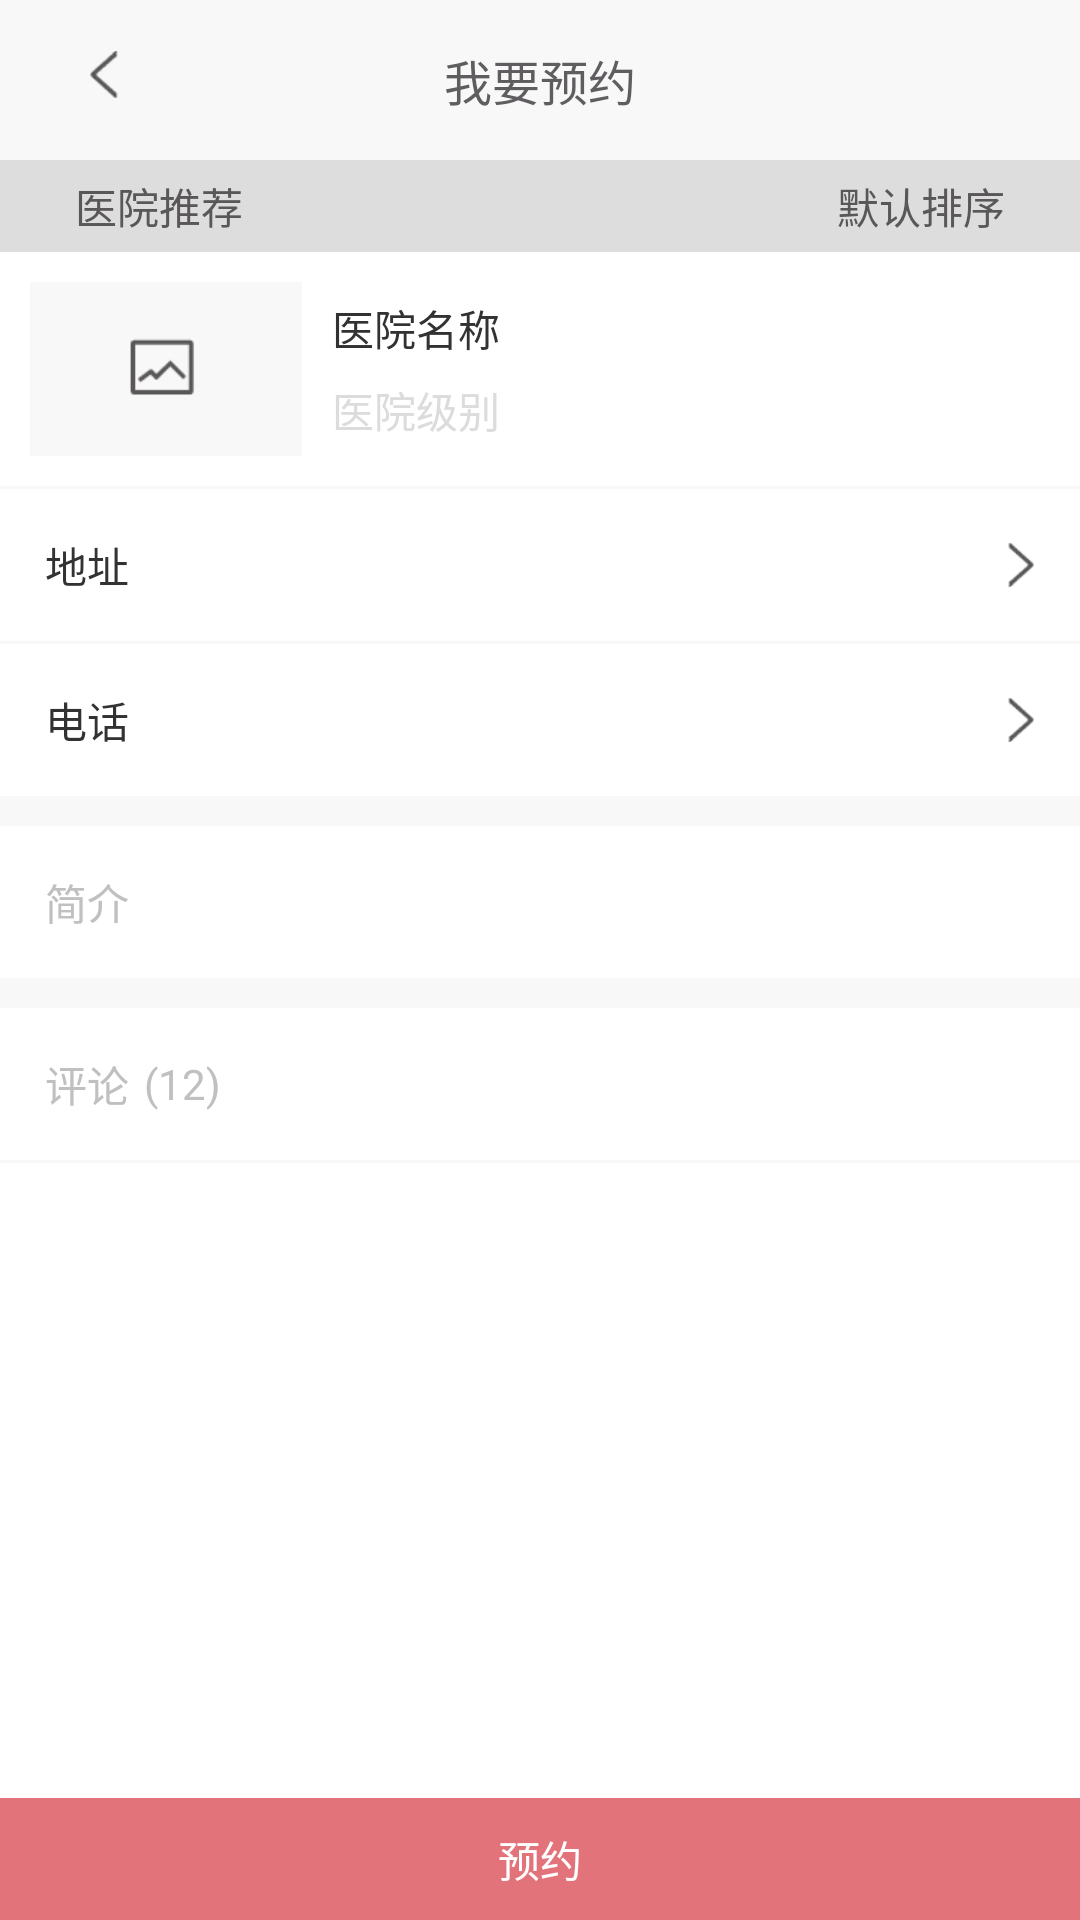

Locate icon controls on the screen. Image size 1080*1920, boxes as bbox(x1, y1, x2, y2).
right: bbox(1008, 543, 1034, 587), bbox(1008, 698, 1034, 742)
